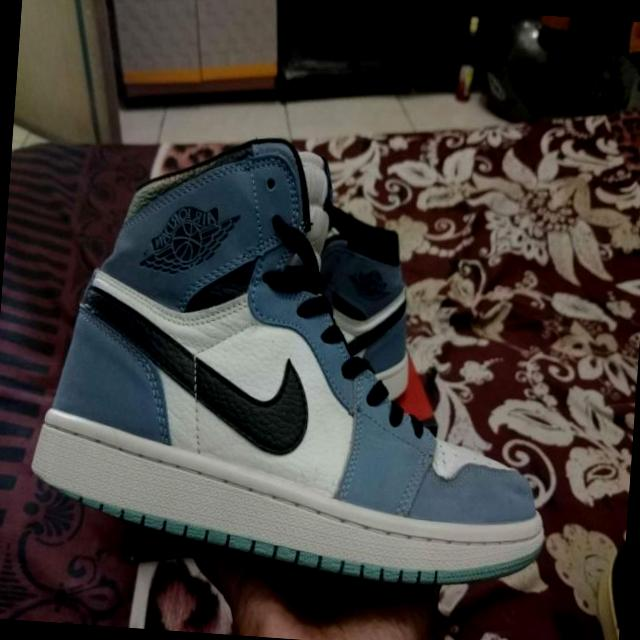nike_fake_jordan: (22, 119, 573, 596)
